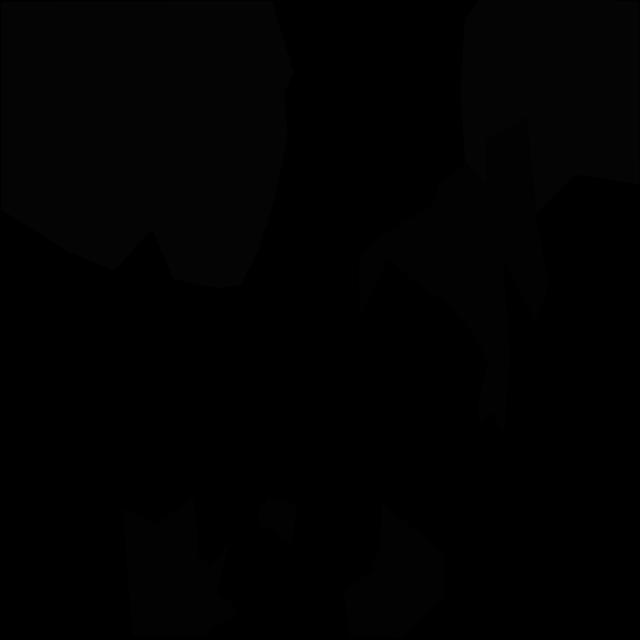cardboard: (359, 117, 549, 433), (122, 497, 239, 636), (344, 503, 444, 638), (258, 497, 297, 544)
soft_plastic: (1, 0, 294, 288)
